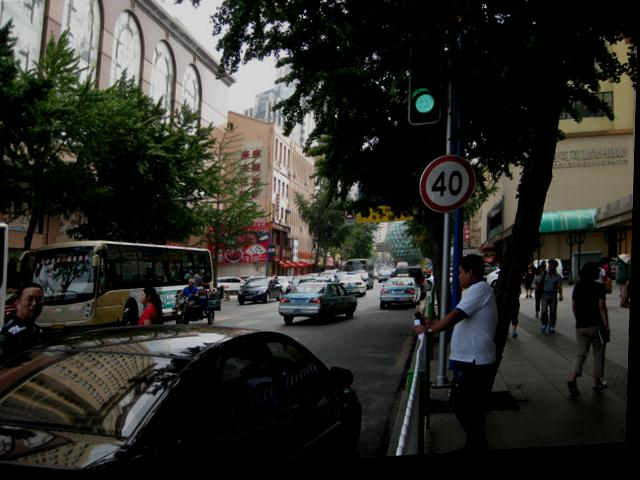limit40: (420, 157, 478, 221)
